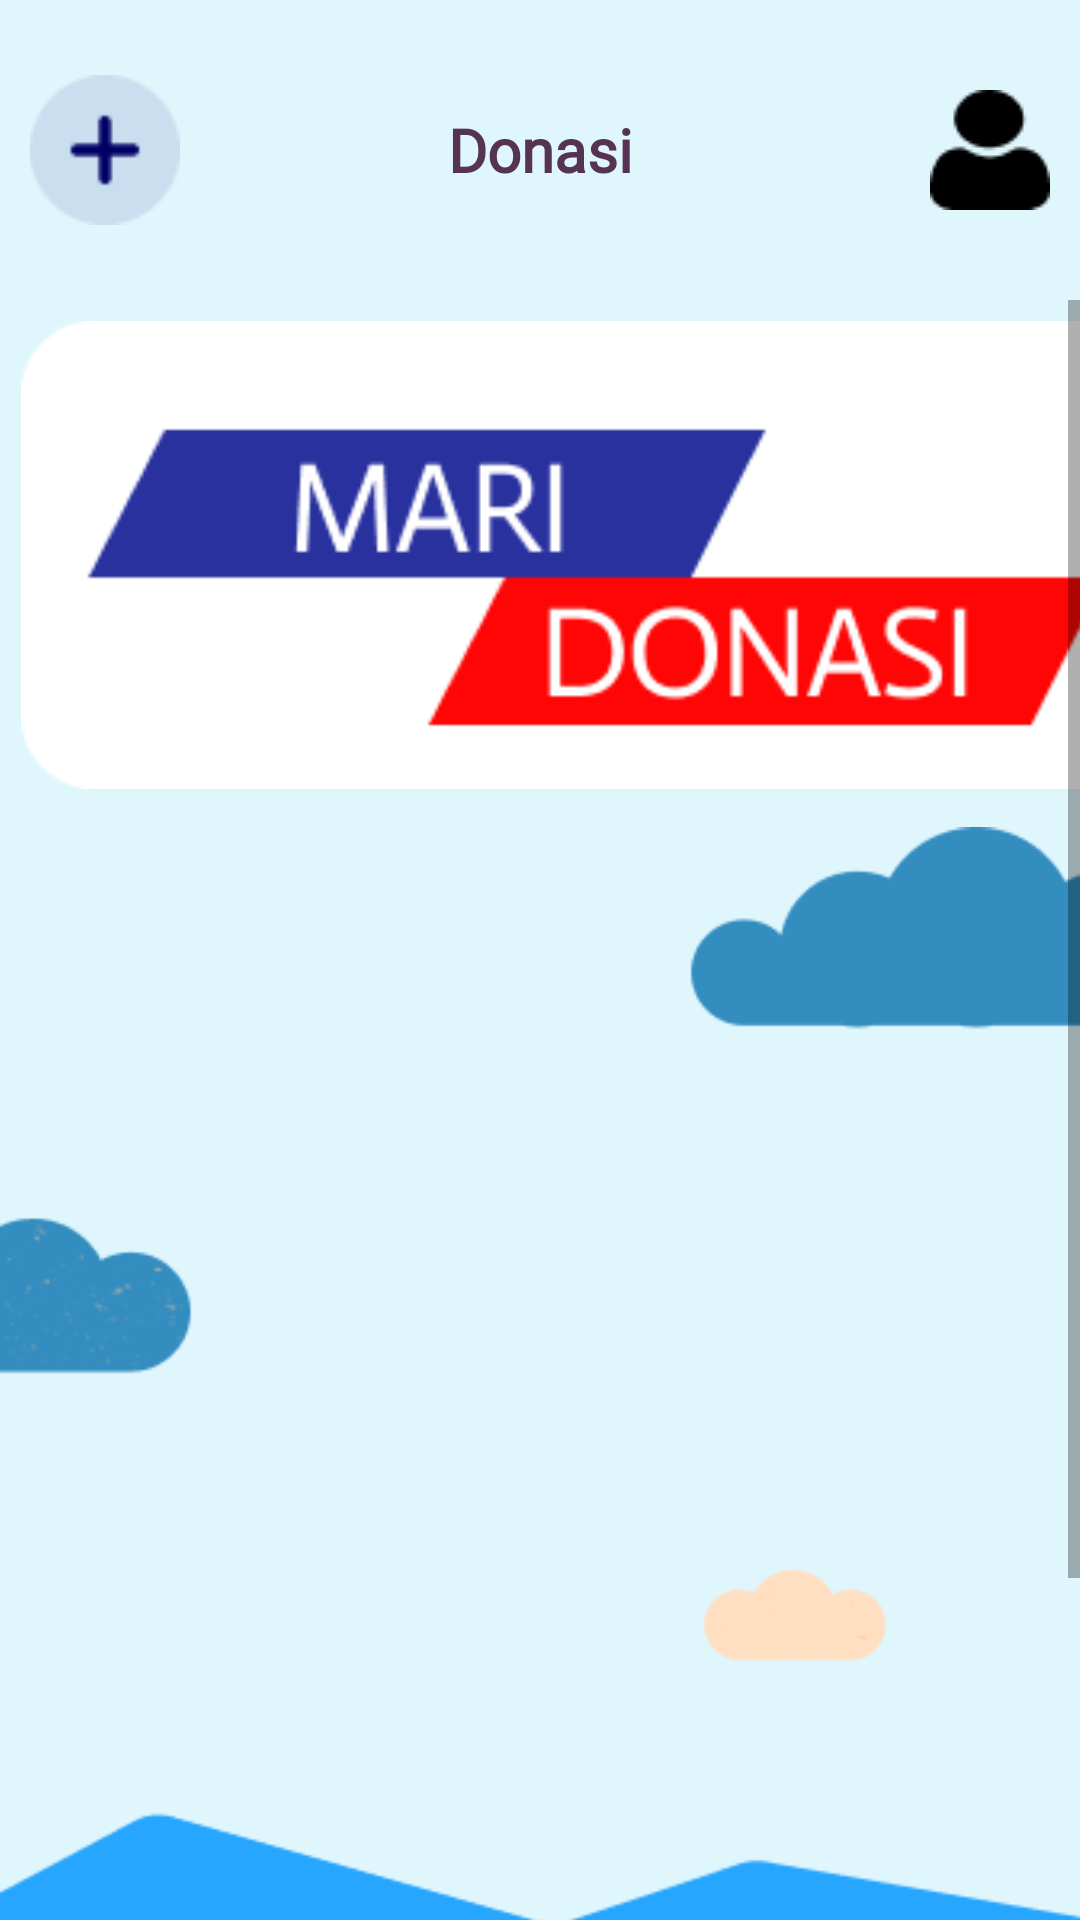

Point at icon controls on the screen. Image size 1080 x 1920, points as (x,y).
profil: (990,150)
tambah: (105,150)
